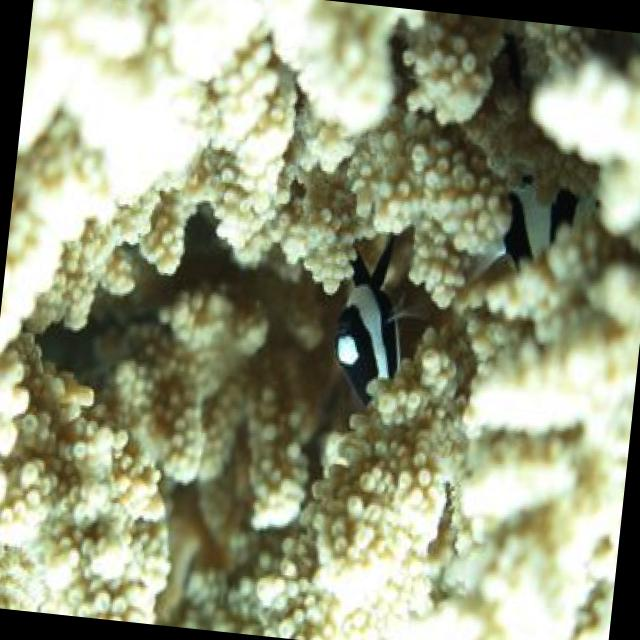ThreeStripedDamselfish: (322, 230, 418, 410)
